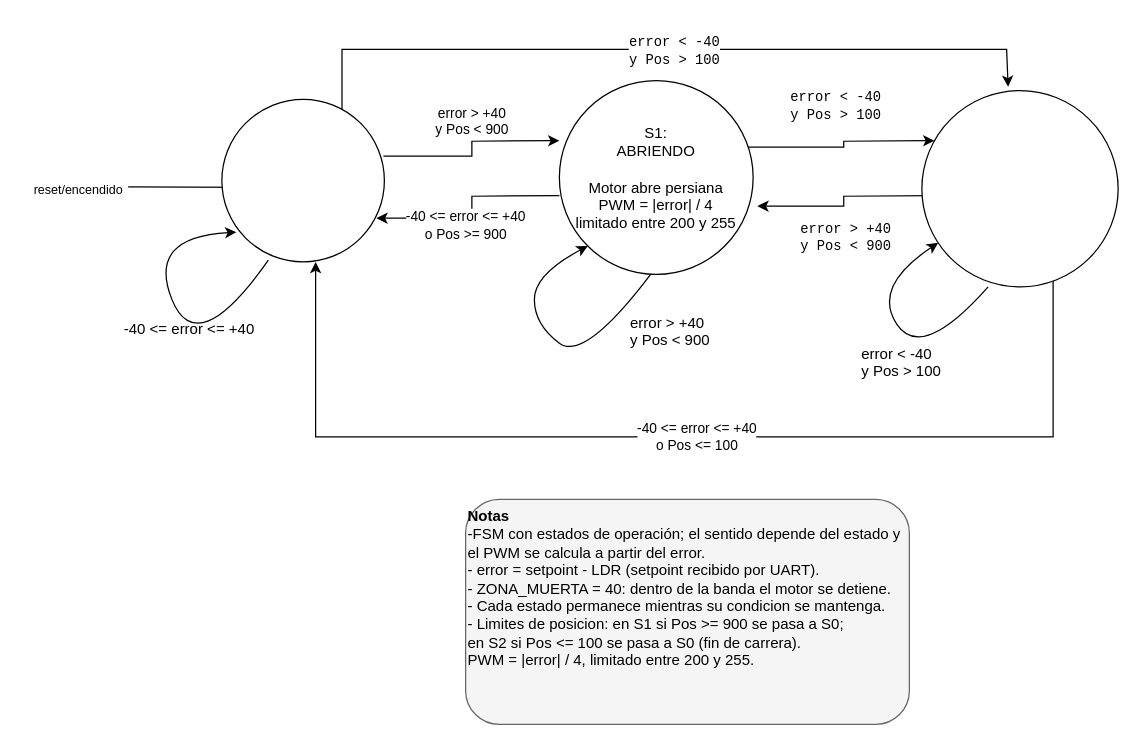
Image size: 1140x746. Some labels were removed from this diagram. The box of each missing label's shape, as (x1, y1, x2, y2) in pixels:
S0: PARADO Motor OFF PWM = 0: (221, 98, 384, 262)
S2: CERRANDO Motor cierra persiana PWM = |error| / 4 limitado entre 200 y 255: (921, 89, 1118, 287)
